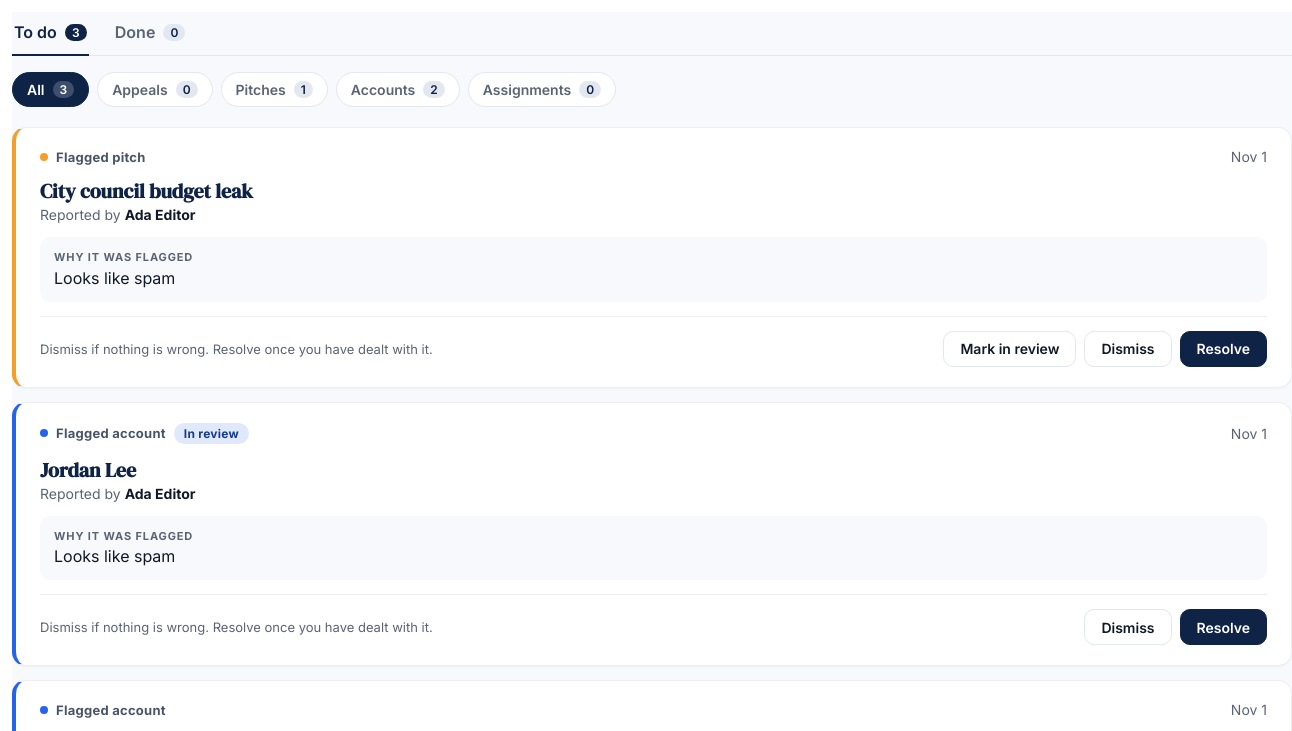
Test: AdminInbox › leaves the flag where it was when the status cannot be saved
Step 1. Click the 1st button "Resolve" → [1223, 348], box [1180,330,1267,366]
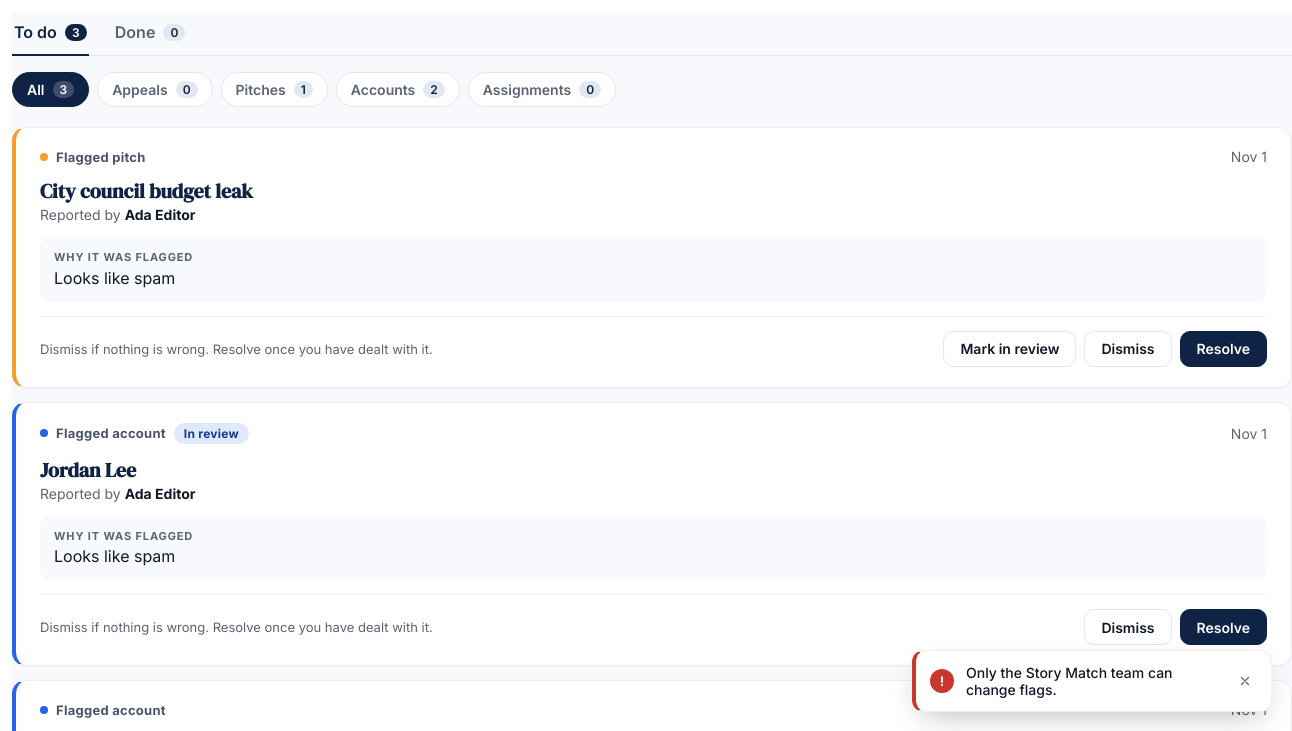
Expected: the heading "City council budget leak" is shown, [40,177,253,205]
Expected: the text "Only the Story Match team can change flags." is shown, [966,664,1172,698]
